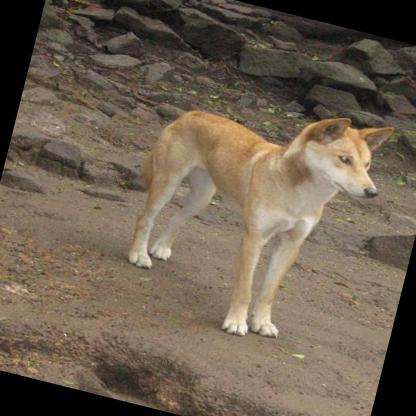dingo: (106, 69, 396, 362)
